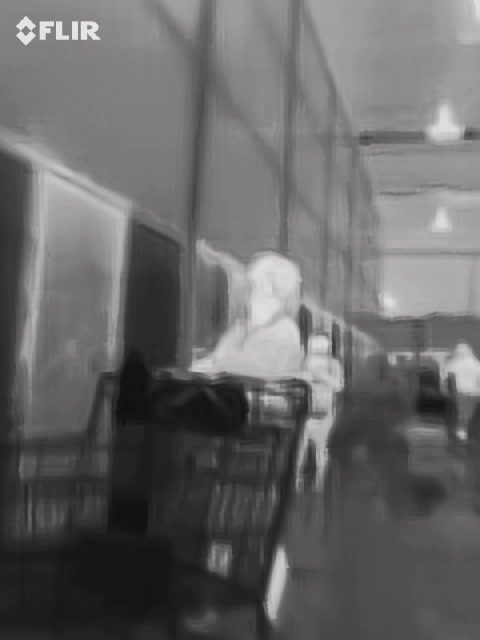head: (241, 248, 300, 319)
